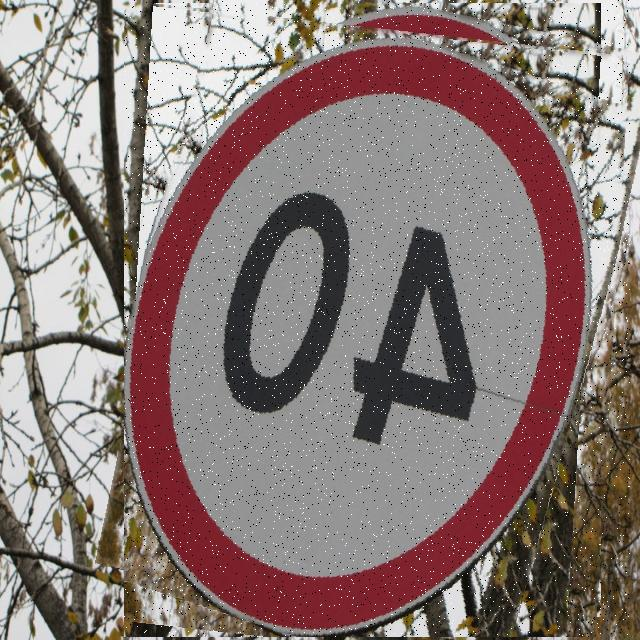speed limit 40: (124, 0, 630, 637)
